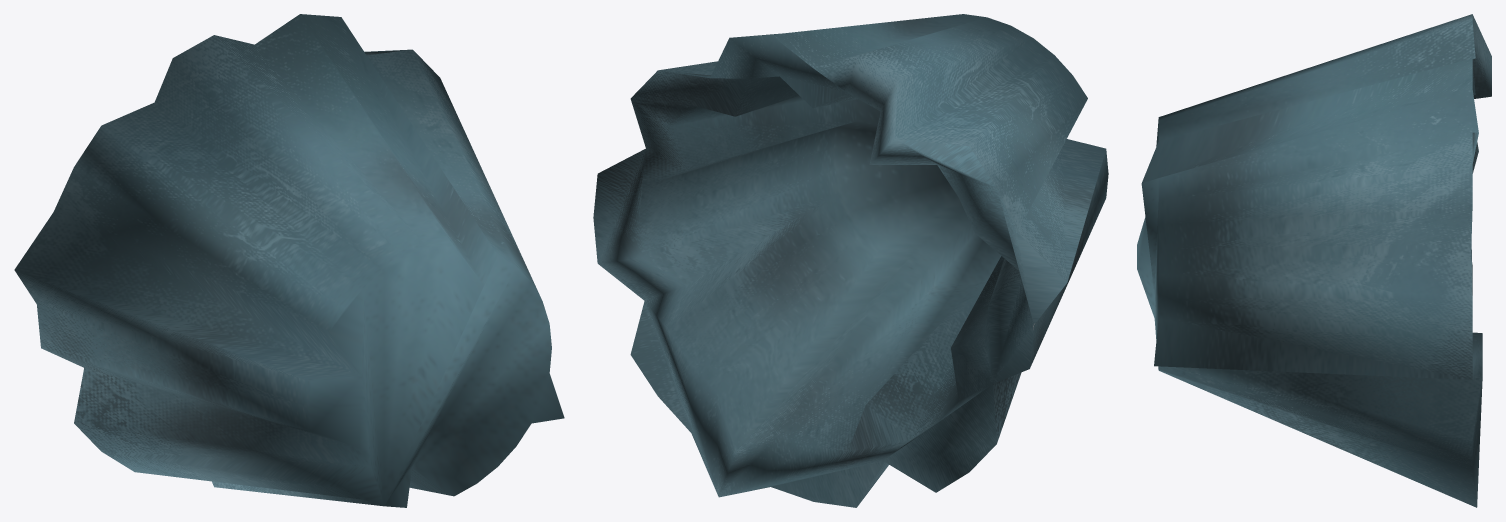
The model's file is spaceship chunks big engine.fbx.
3 views of the same model, side by side, from view 1: azimuth 30°, elevation 25°; view 2: azimuth 150°, elevation 25°; view 3: azimuth 270°, elevation 25° (orthographic). The views are drawn at different scales.
Parts seen in each view (by area): view 1: big engine.001; view 2: big engine.001; view 3: big engine.001.
Boxes of the visible parts, x1,y1,x2,y2 form: big engine.001: (14,14,564,507); big engine.001: (593,14,1108,507); big engine.001: (1137,14,1491,507).
Bounding box in the file's own units: 269 × 260 × 195.
